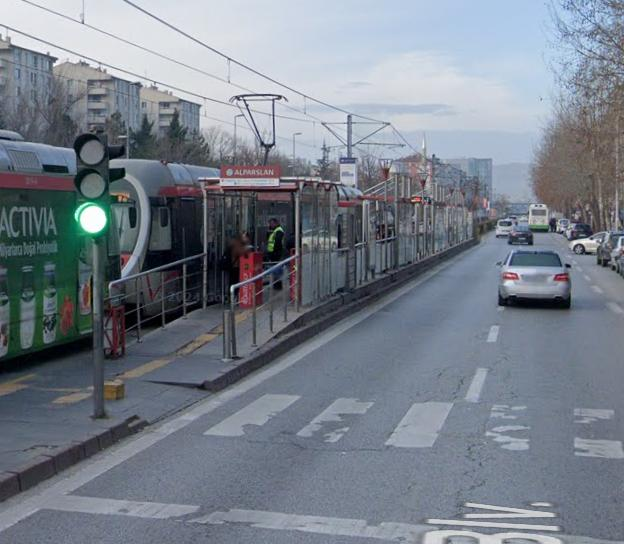greenlight: (75, 133, 114, 239)
